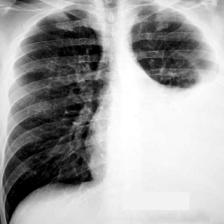tuberculosis: (1, 2, 219, 224)
